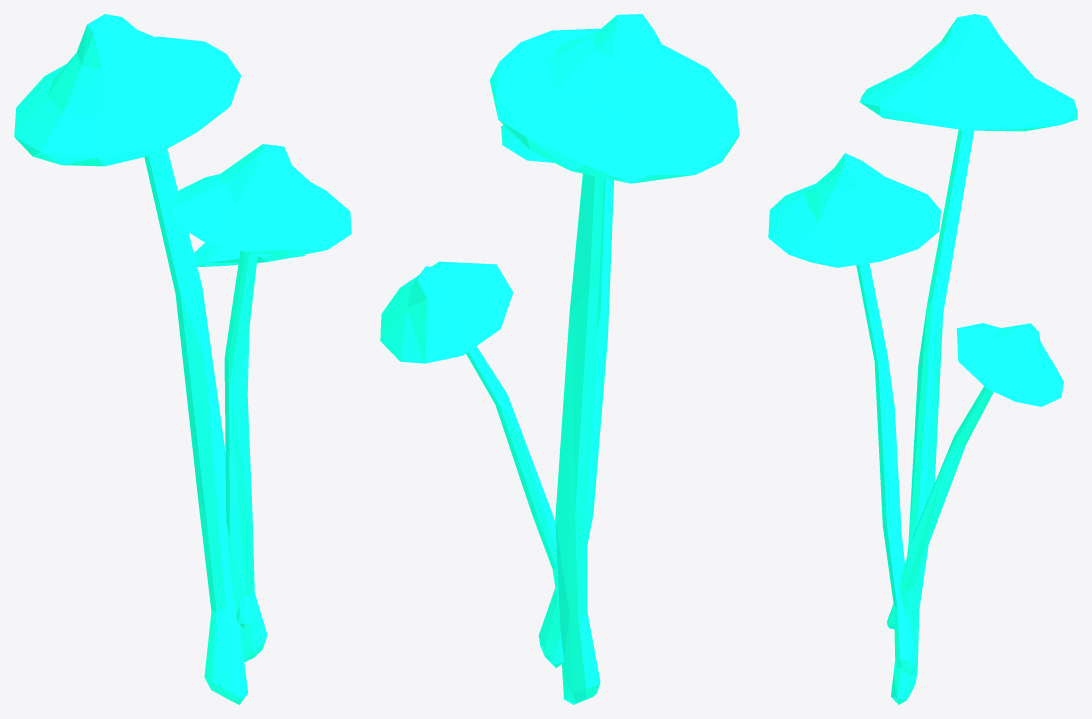
File: bright_1.glb
The picture shows the model from 3 angles, left to right: view 1: azimuth 30°, elevation 25°; view 2: azimuth 150°, elevation 25°; view 3: azimuth 270°, elevation 25°; orthographic projection. The views are drawn at different scales.
Visible parts, largest first — view 1: bright_1; view 2: bright_1; view 3: bright_1.
Boxes of the visible parts, <box> form: bright_1: <box>14,14,351,704</box>; bright_1: <box>380,14,739,704</box>; bright_1: <box>768,14,1077,704</box>.
Size of the model in its own units: 8.52 by 19.38 by 8.39.
